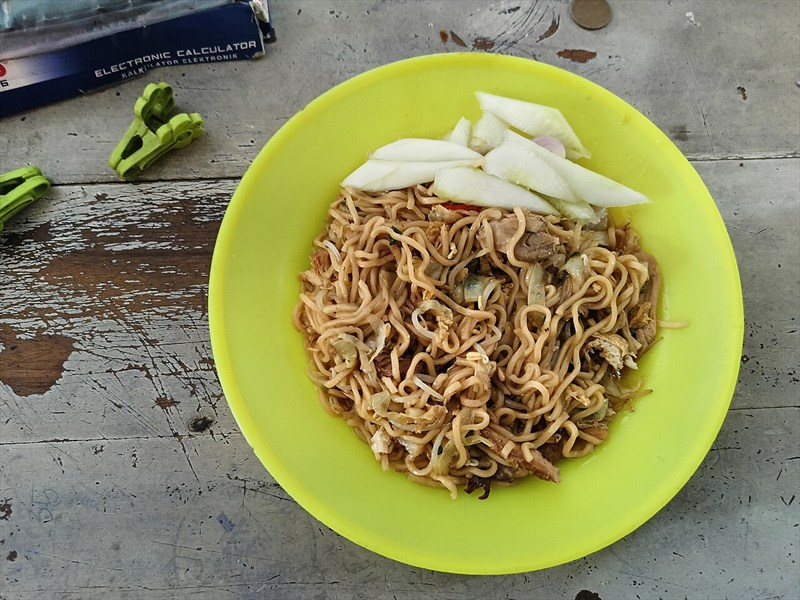Mie Goreng: (137, 104, 673, 506)
